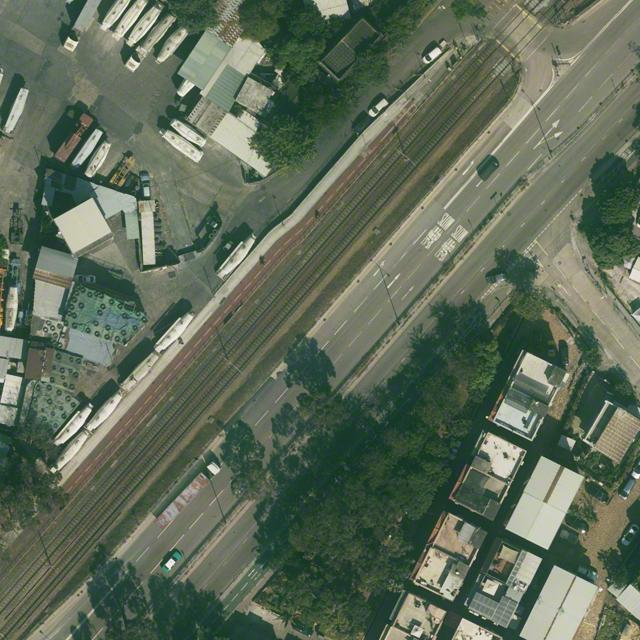SolarPanel: (491, 596, 518, 628), (469, 592, 499, 618)
